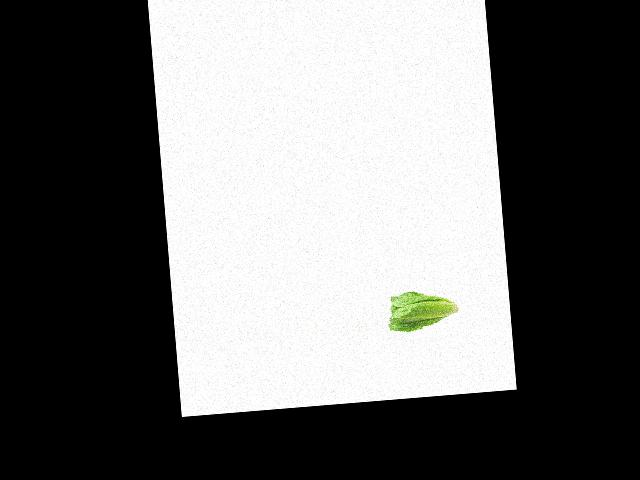lettuce: (385, 285, 461, 336)
